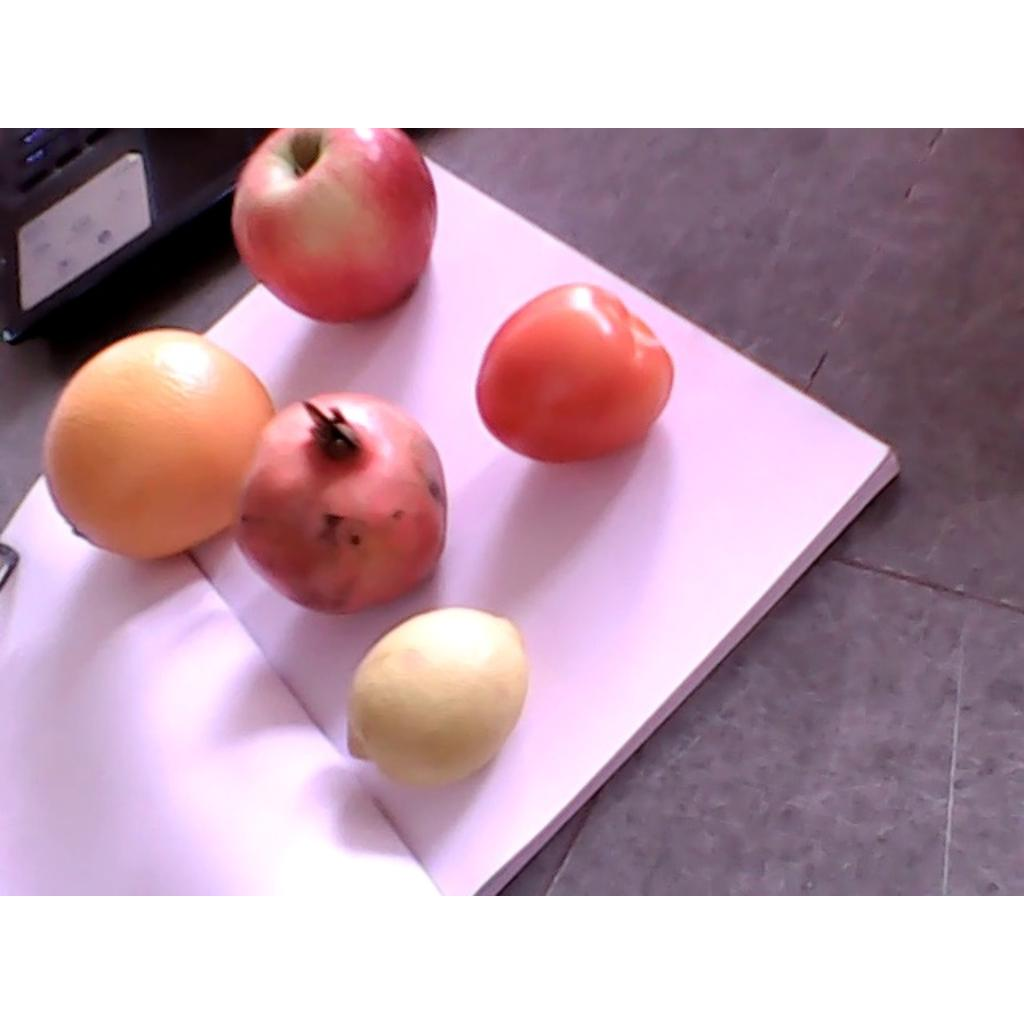apple: (231, 128, 439, 316)
lemon: (345, 609, 533, 791)
orange: (33, 324, 278, 559)
pomegranate: (235, 392, 448, 615)
tomato: (481, 281, 675, 457)
